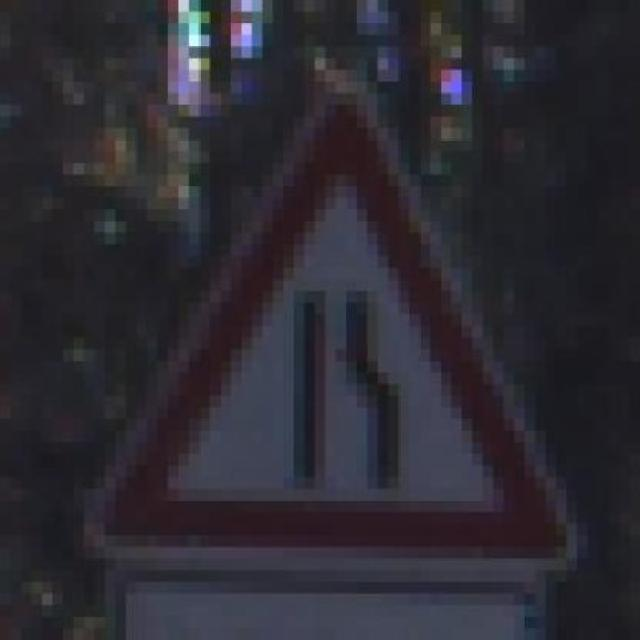-Road narrows on right: (94, 69, 577, 594)
